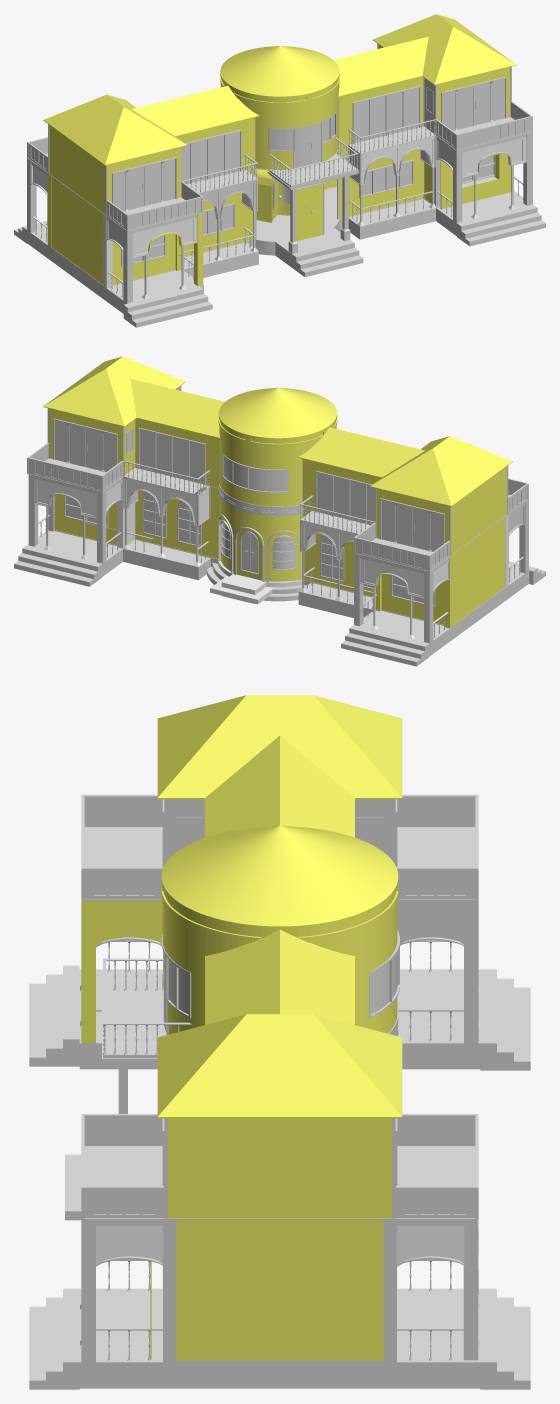
Rendered from tulip palace.fbx.
3 views of the same model, one above another, from view 1: azimuth 30°, elevation 25°; view 2: azimuth 150°, elevation 25°; view 3: azimuth 270°, elevation 25° (orthographic). The views are drawn at different scales.
Parts seen in each view (by area): view 1: Cylinder.007, Cube.351, Cube.264, Cube.458, Cube.350, Cube.265, Cylinder.005, Cube.541, Cube.459, Cube.146, Cube.366, Cube.148 (+46 smaller); view 2: Cylinder.007, Cube.351, Cube.264, Cube.555, Cube.458, Cylinder.012, Cube.549, Cube.350, Cube.265, Cube.541, Cube.459, Cube.243 (+48 smaller); view 3: Cube.129, Cube.264, Cube.263, Cylinder.007, Cube.542, Cube.351, Cube.265, Cube.541, Cube.350, Cube.555, Cube.040, Cube.371 (+26 smaller).
Boxes of the visible parts, x1,y1,x2,y2 form: Cylinder.007: (220, 46, 339, 105); Cube.351: (43, 94, 187, 165); Cube.264: (373, 14, 516, 85); Cube.458: (51, 176, 103, 284); Cube.350: (131, 85, 258, 136); Cube.265: (333, 36, 428, 96); Cylinder.005: (220, 84, 339, 169); Cube.541: (26, 225, 203, 313); Cube.459: (49, 125, 105, 214); Cube.146: (354, 88, 418, 143); Cube.366: (113, 159, 175, 211); Cube.148: (443, 78, 504, 130); Cylinder.007: (218, 387, 337, 447); Cube.351: (370, 436, 512, 506); Cube.264: (43, 356, 185, 426); Cube.555: (14, 545, 429, 666); Cube.458: (453, 517, 504, 624); Cylinder.012: (219, 426, 303, 506); Cube.549: (123, 540, 372, 617); Cube.350: (298, 427, 424, 477); Cube.265: (130, 378, 224, 438); Cube.541: (354, 566, 529, 656); Cube.459: (451, 466, 506, 554); Cube.243: (140, 429, 204, 483); Cube.129: (176, 1220, 383, 1360); Cube.264: (157, 1014, 402, 1118); Cube.263: (167, 1118, 392, 1218); Cylinder.007: (161, 825, 398, 942); Cube.542: (79, 1288, 480, 1388); Cube.351: (157, 695, 402, 799); Cube.265: (205, 929, 354, 1024); Cube.541: (79, 969, 480, 1069); Cube.350: (205, 735, 354, 837); Cube.555: (480, 969, 530, 1389); Cube.040: (81, 1146, 478, 1219); Cube.371: (81, 827, 478, 900).
Size of the model in its own units: 2819 by 1209 by 1494.
